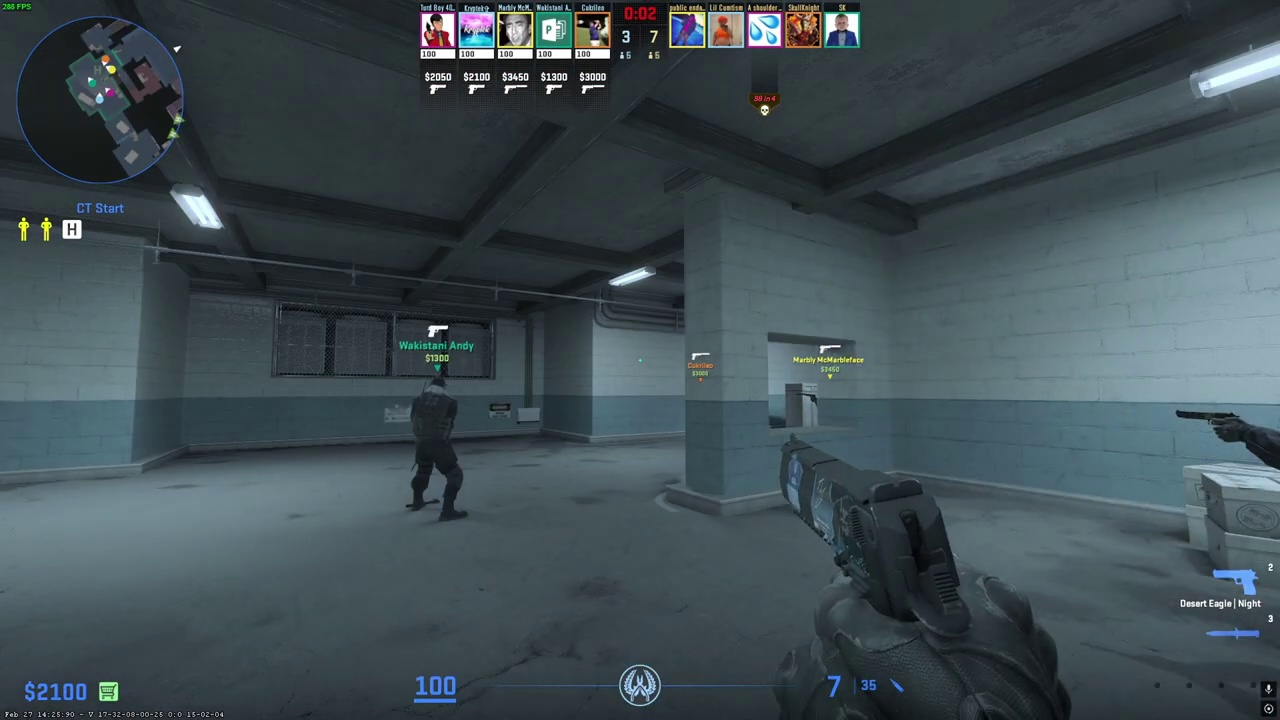CT: (407, 377, 464, 521)
